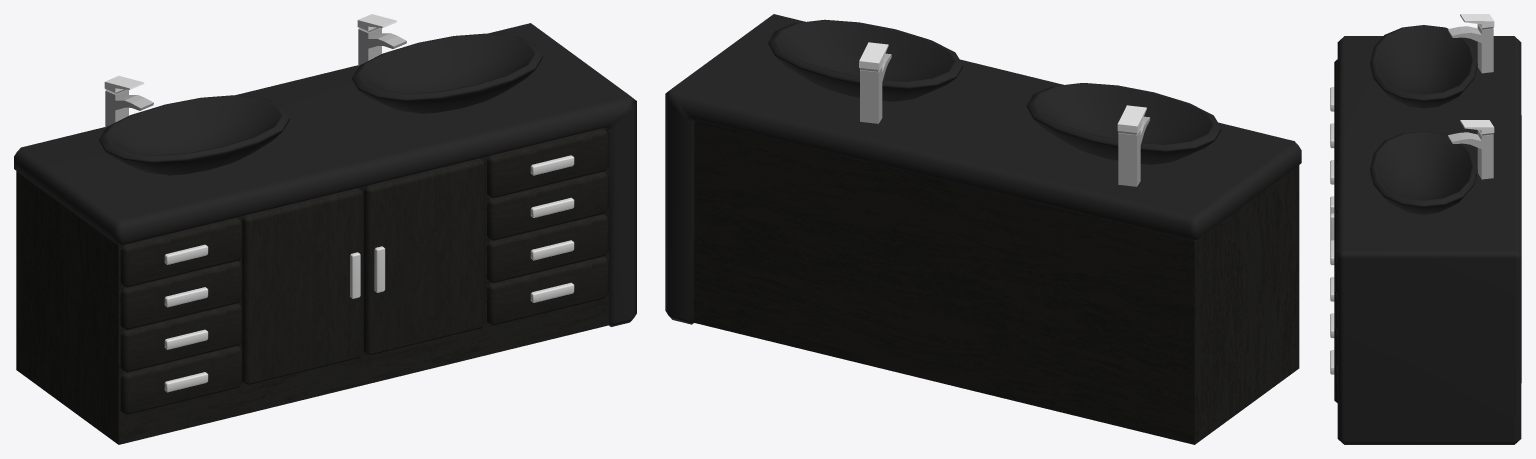
Rendered from bathroom_036.fbx.
The picture shows the model from 3 angles, left to right: view 1: azimuth 30°, elevation 25°; view 2: azimuth 150°, elevation 25°; view 3: azimuth 270°, elevation 25°; orthographic projection. The views are drawn at different scales.
Visible parts, largest first — view 1: bathroom_036; view 2: bathroom_036; view 3: bathroom_036.
Boxes of the visible parts, x1,y1,x2,y2 form: bathroom_036: [14, 14, 636, 444]; bathroom_036: [665, 14, 1301, 444]; bathroom_036: [1330, 14, 1521, 444].
Bounding box in the file's own units: 231 × 85.35 × 123.
